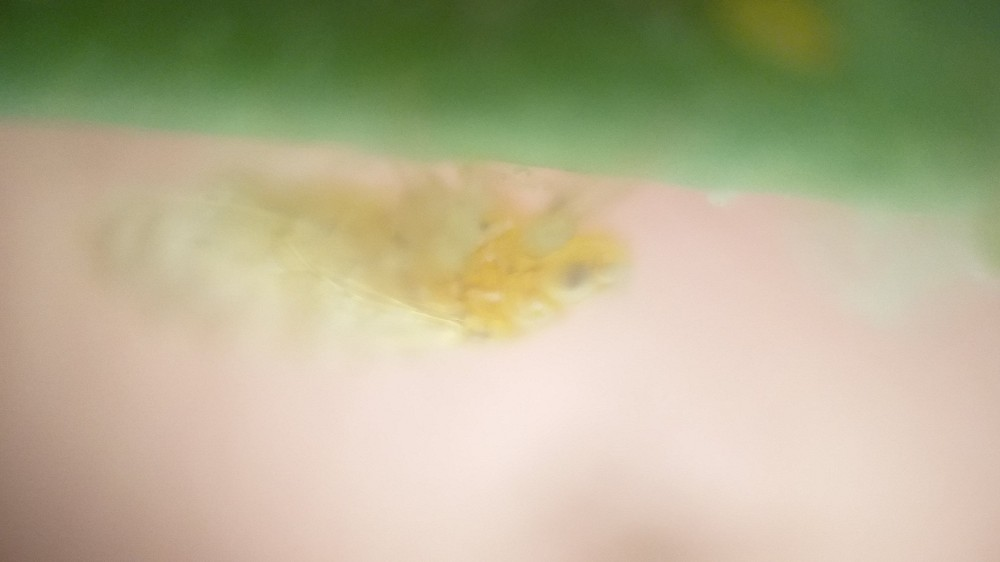Mosca Blanca: (77, 105, 681, 416)
